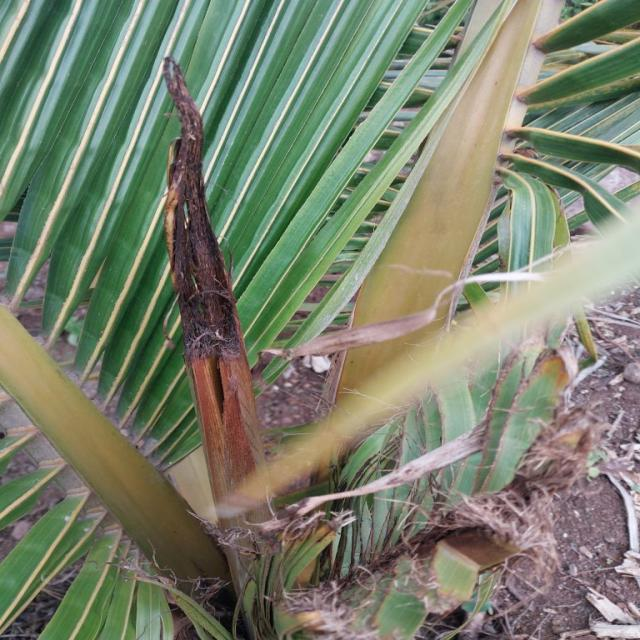bud rot: (163, 58, 263, 506)
